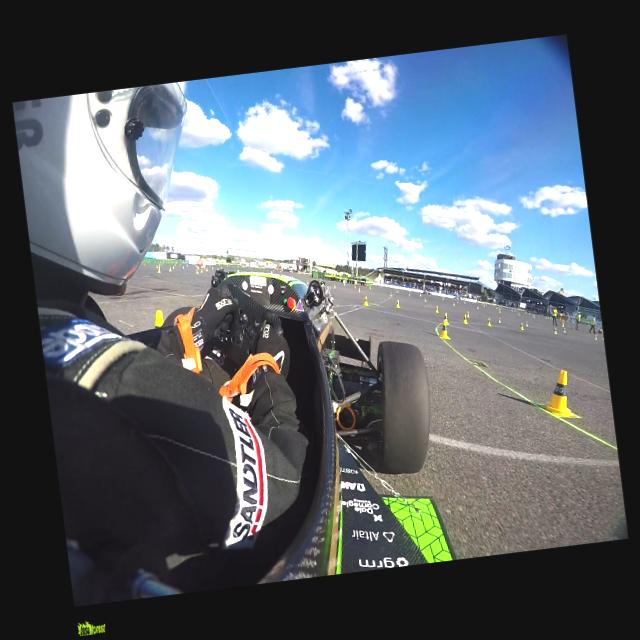yellow_cone: (538, 368, 574, 419), (438, 320, 450, 340), (152, 308, 164, 328), (441, 312, 448, 324), (362, 296, 368, 306), (462, 314, 468, 324), (486, 317, 492, 326), (520, 322, 524, 331), (434, 305, 438, 313), (396, 300, 400, 308), (466, 310, 470, 318), (562, 327, 566, 333), (156, 267, 160, 273), (332, 283, 336, 288), (594, 334, 597, 340), (357, 286, 360, 292), (525, 321, 528, 326), (389, 291, 392, 296), (554, 328, 556, 334), (498, 316, 500, 322), (368, 285, 371, 289), (602, 334, 604, 339), (407, 292, 409, 296), (424, 298, 426, 302), (396, 290, 398, 292)
